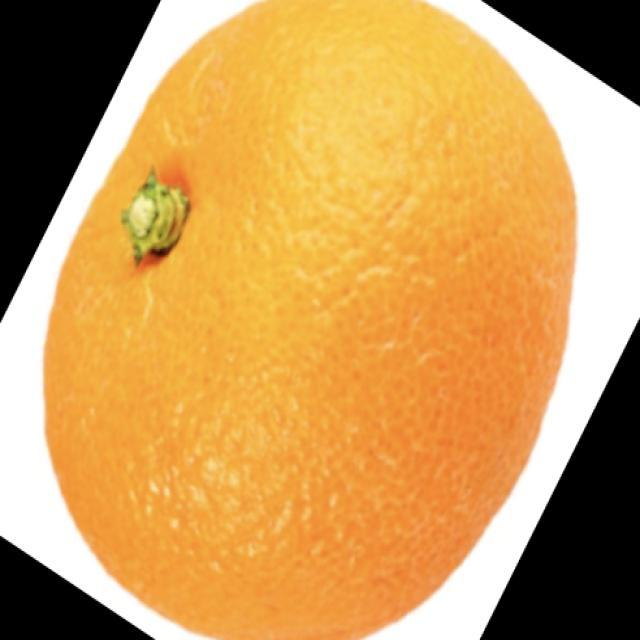Orange: (41, 0, 578, 639)
